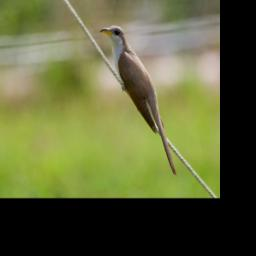Cuckoo: (98, 25, 179, 180)
